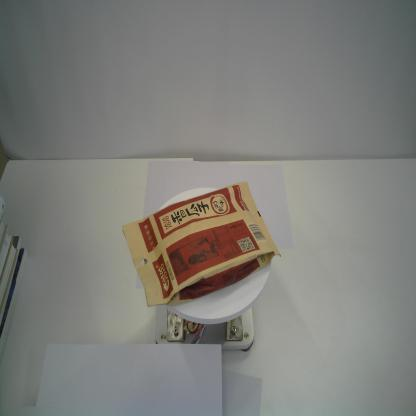Dried Food: (121, 179, 283, 310)
